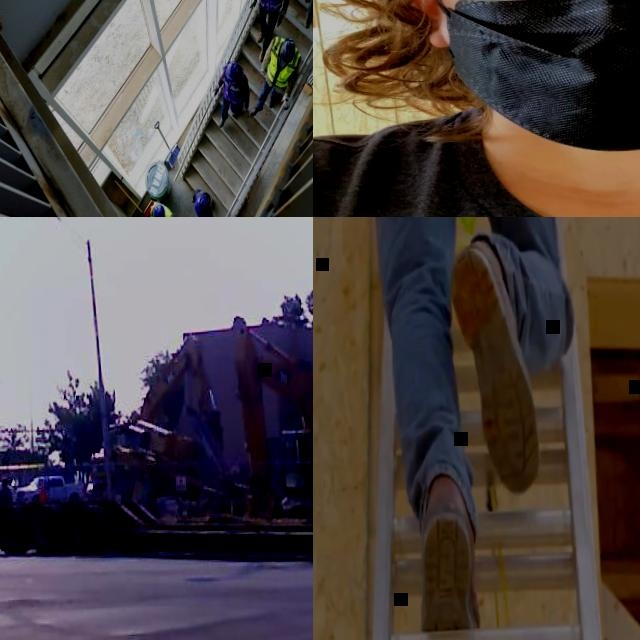Hardhat: (279, 37, 295, 63), (224, 61, 238, 83), (194, 193, 207, 214), (153, 203, 165, 217)
Mask: (429, 0, 640, 154)
NO-Hardhat: (1, 477, 8, 484)
NO-Safety Vest: (313, 114, 640, 217)
Person: (330, 217, 592, 640), (313, 0, 640, 217), (245, 35, 303, 117), (247, 0, 292, 61), (212, 61, 251, 127), (190, 189, 213, 217), (149, 200, 176, 217), (0, 476, 12, 506)
Safety Cone: (37, 481, 47, 504)
Safety Vest: (265, 34, 302, 86), (223, 62, 245, 100), (150, 200, 175, 217), (258, 0, 288, 11)
machinery: (82, 331, 226, 510), (227, 310, 313, 525)
vehicle: (15, 473, 85, 507)
